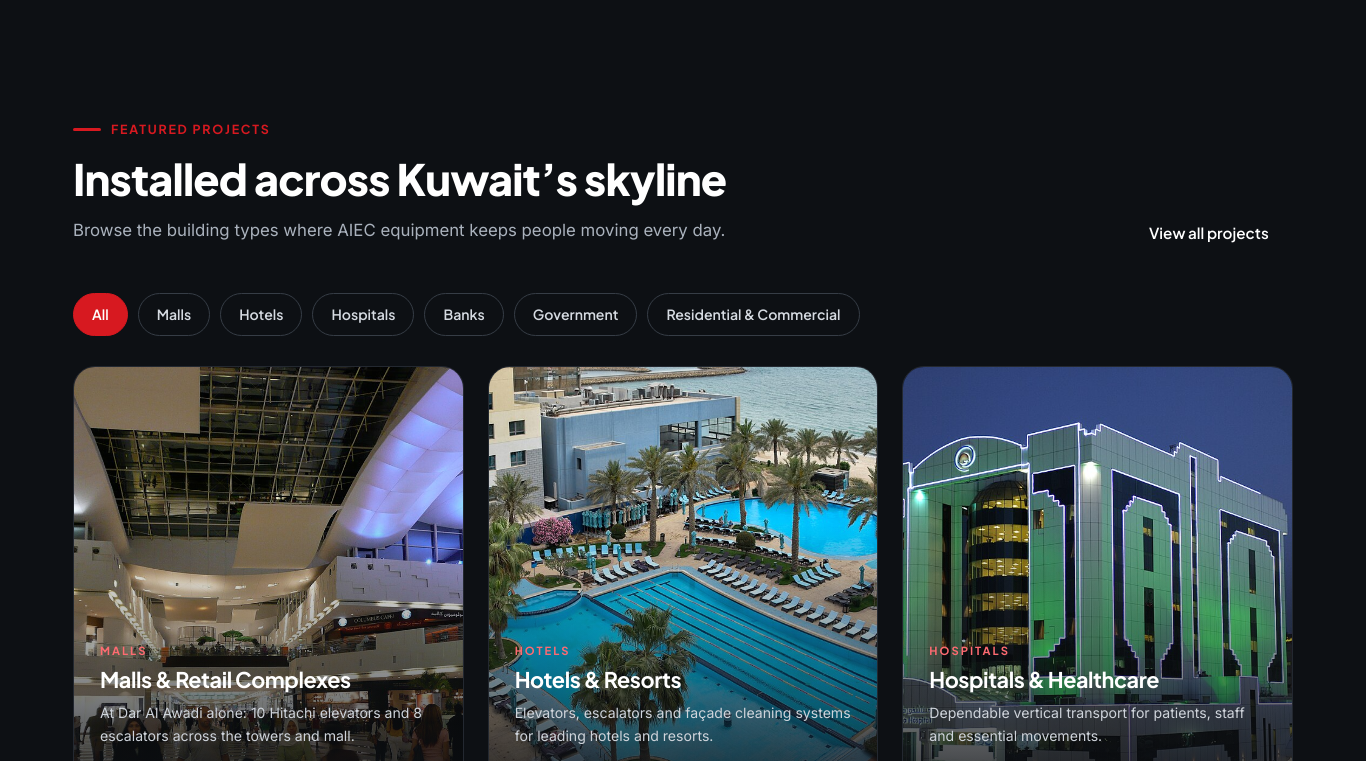
Test: Projects › chip Government shows only the matching card
This screenshot has width=1366, height=761.
Click the tab "Government": (576, 315) [514,293,637,336]
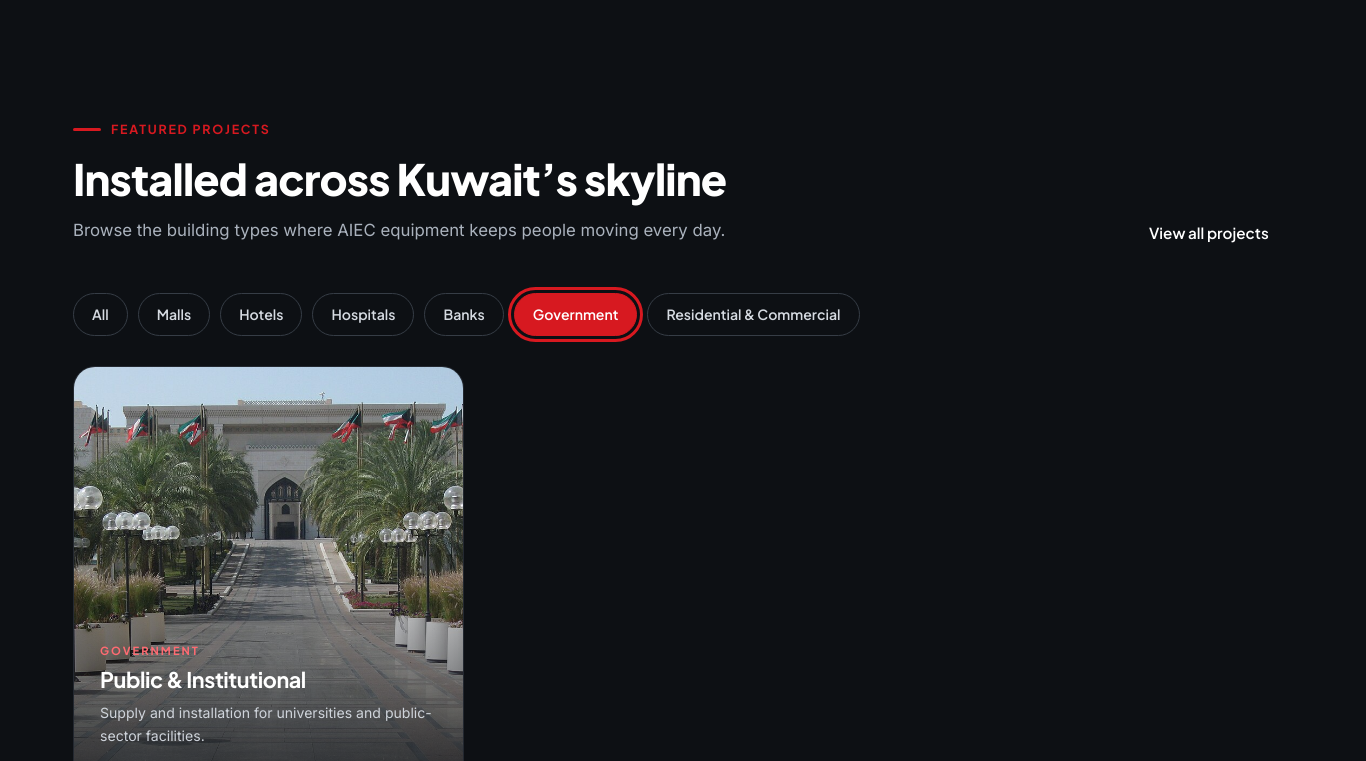
Check: the tab "Government" is selected, box [514,293,637,336]
Check: the tab "Government" has class "on", box [514,293,637,336]
Check: the tab "All" is not selected, box [73,293,128,336]
